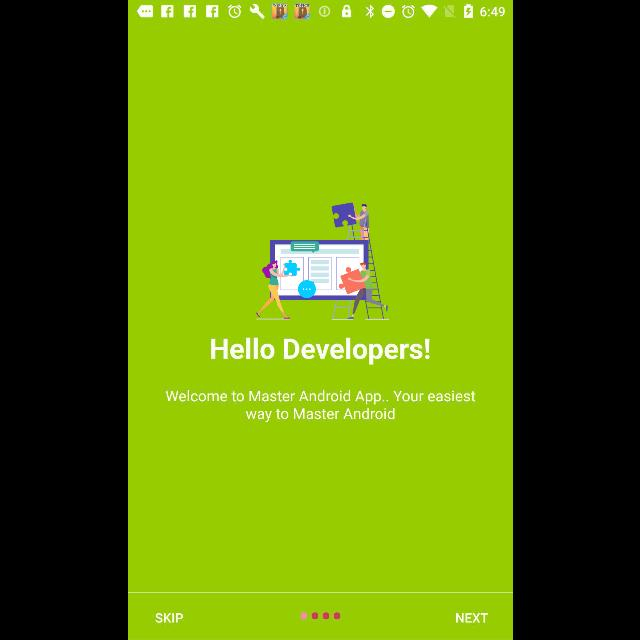image: (256, 203, 388, 321)
pageindicator: (300, 612, 340, 620)
text: (164, 390, 476, 422), (210, 337, 430, 365), (454, 612, 488, 624), (155, 613, 183, 623)
uppertaskbar: (128, 1, 512, 23)
